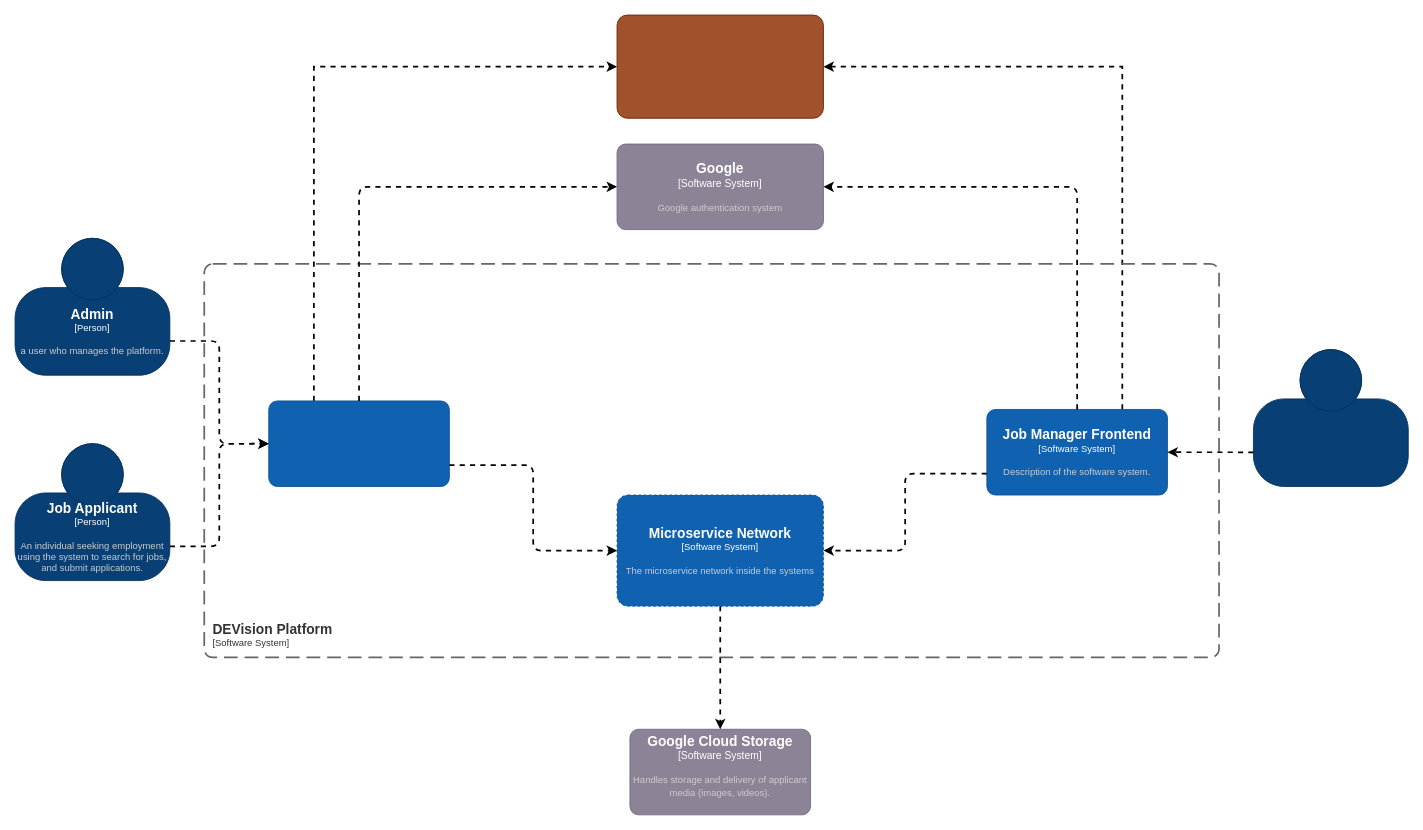
Image size: 1423x830. Some labels were removed from this diagram. Here are the shapes that lost their labels. From the top down, the centre of each, then its label:
At point 719,66: "bamboo-ui [Software System] Shared UI library".
At point 1330,418: "Job Manager [Person] a user who manages jobs.".
At point 358,443: "Job Applicant Frontend [Software System] Description of the software system.".
